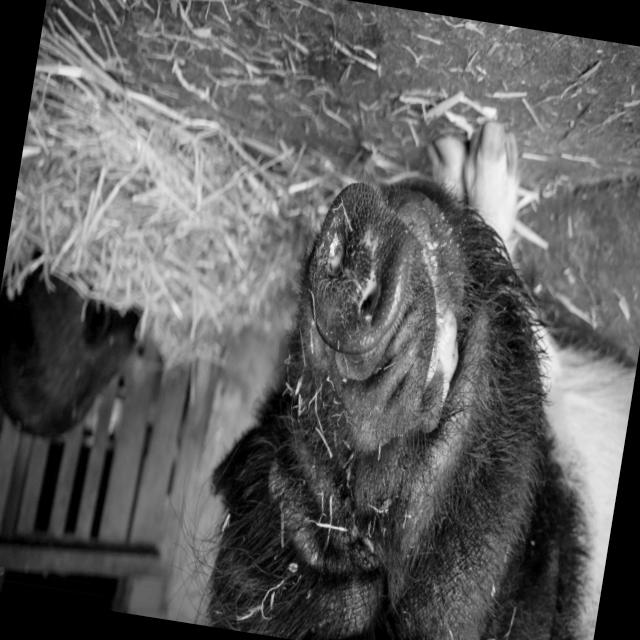pig: (200, 118, 638, 640), (0, 256, 140, 438)
